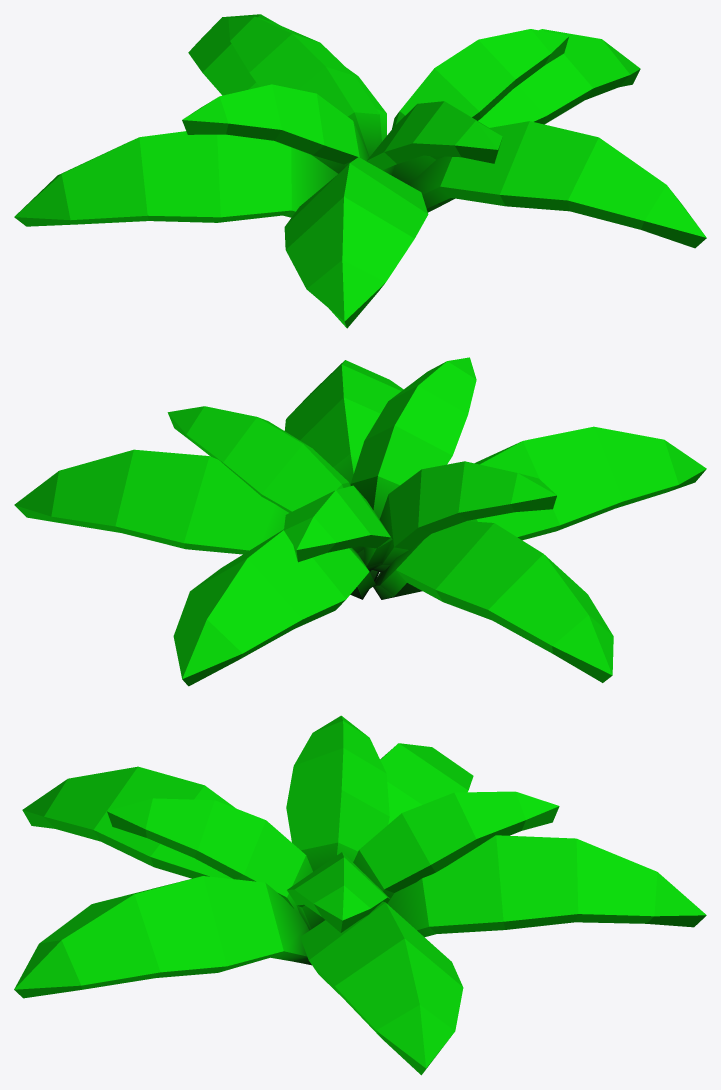
File: SM_FloorPlant_03.fbx
The picture shows the model from 3 angles, top to bottom: view 1: azimuth 30°, elevation 25°; view 2: azimuth 150°, elevation 25°; view 3: azimuth 270°, elevation 25°; orthographic projection. The views are drawn at different scales.
Parts seen in each view (by area): view 1: SM_FloorPlant_03; view 2: SM_FloorPlant_03; view 3: SM_FloorPlant_03.
Boxes of the visible parts, x1=… form: SM_FloorPlant_03: x1=14, y1=14, x2=706, y2=328; SM_FloorPlant_03: x1=14, y1=357, x2=706, y2=686; SM_FloorPlant_03: x1=14, y1=715, x2=706, y2=1075.
Size of the model in its own units: 195 by 50.82 by 187.
